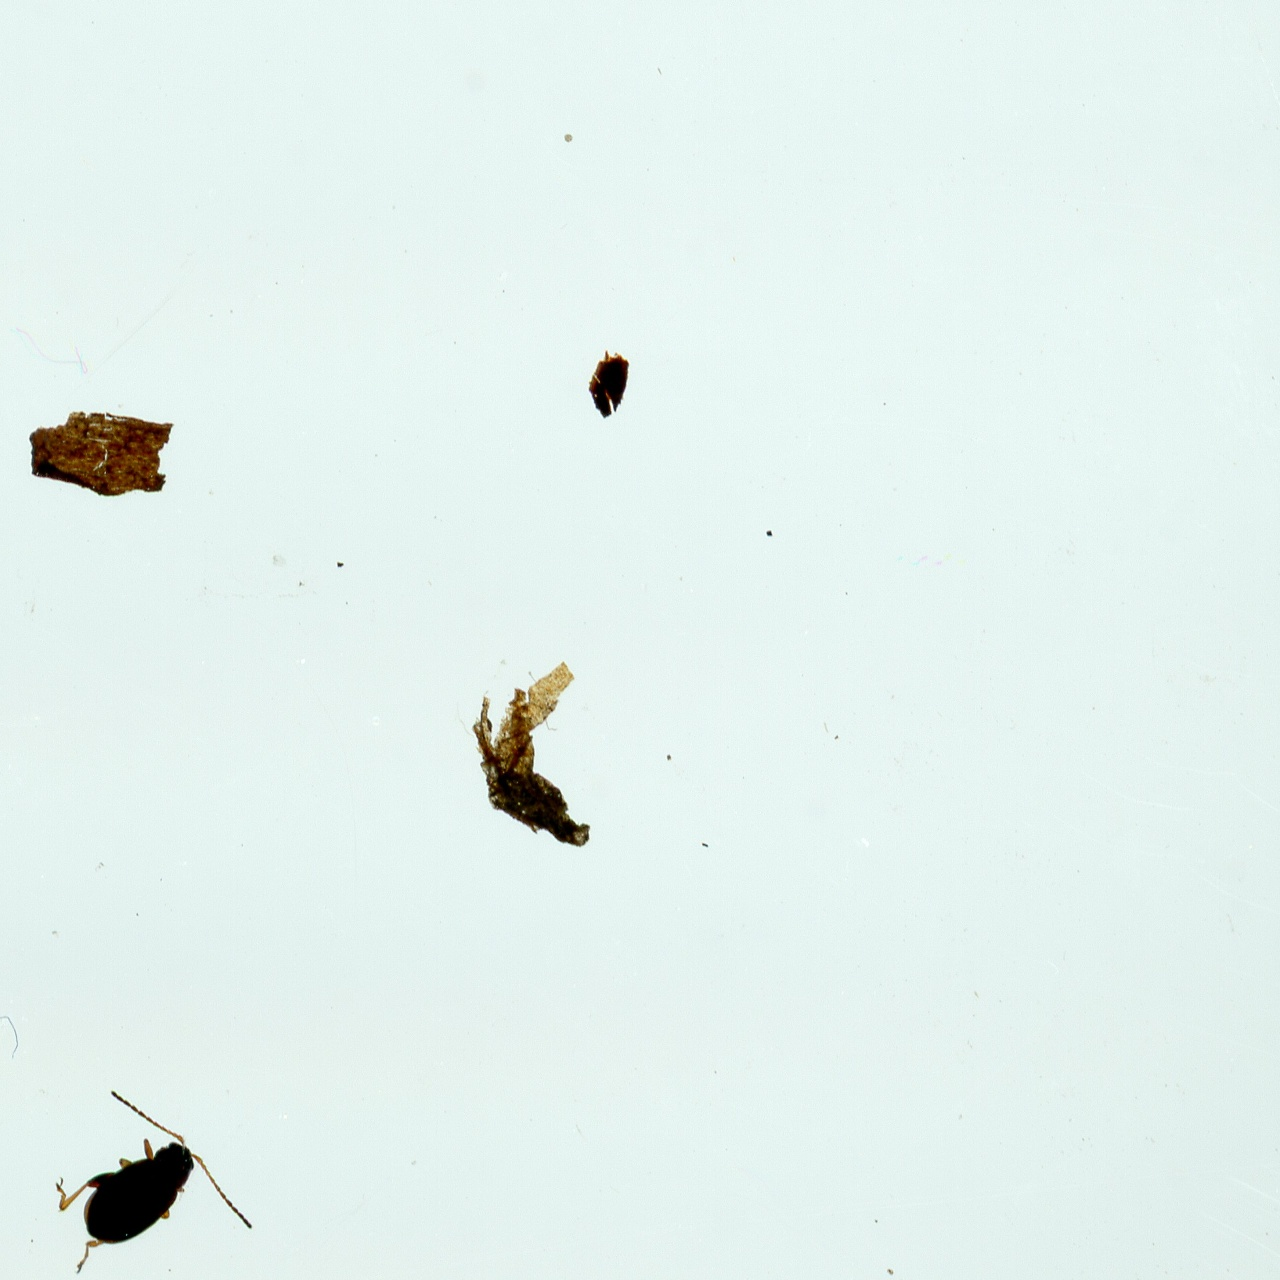arthropod: (0, 1061, 268, 1280)
